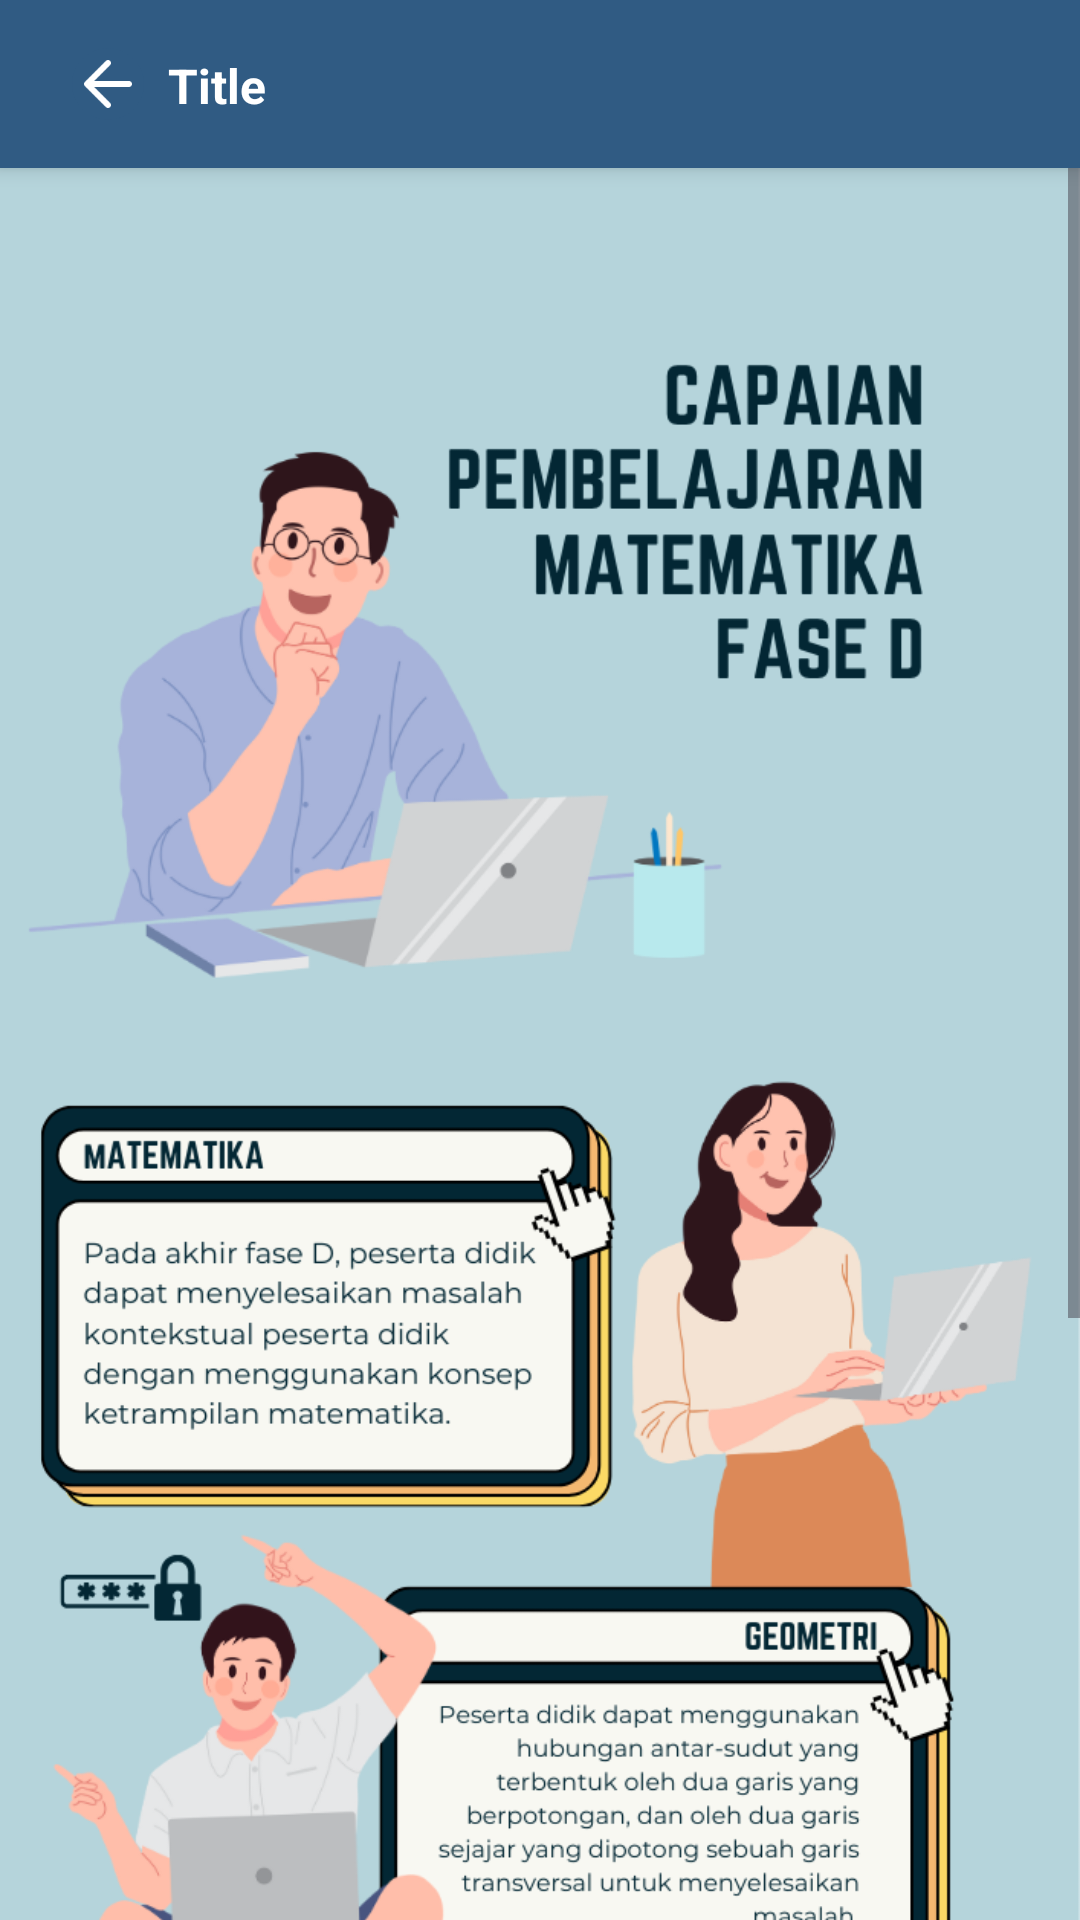

Point at icon controls on the screen. Image size 1080*1920, points as (x,y).
arrow left: (108,84)
